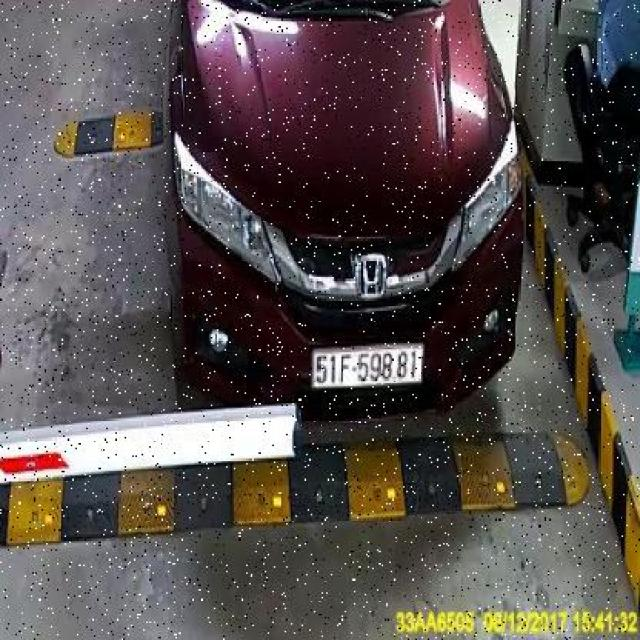number_plate: (309, 338, 425, 388)
